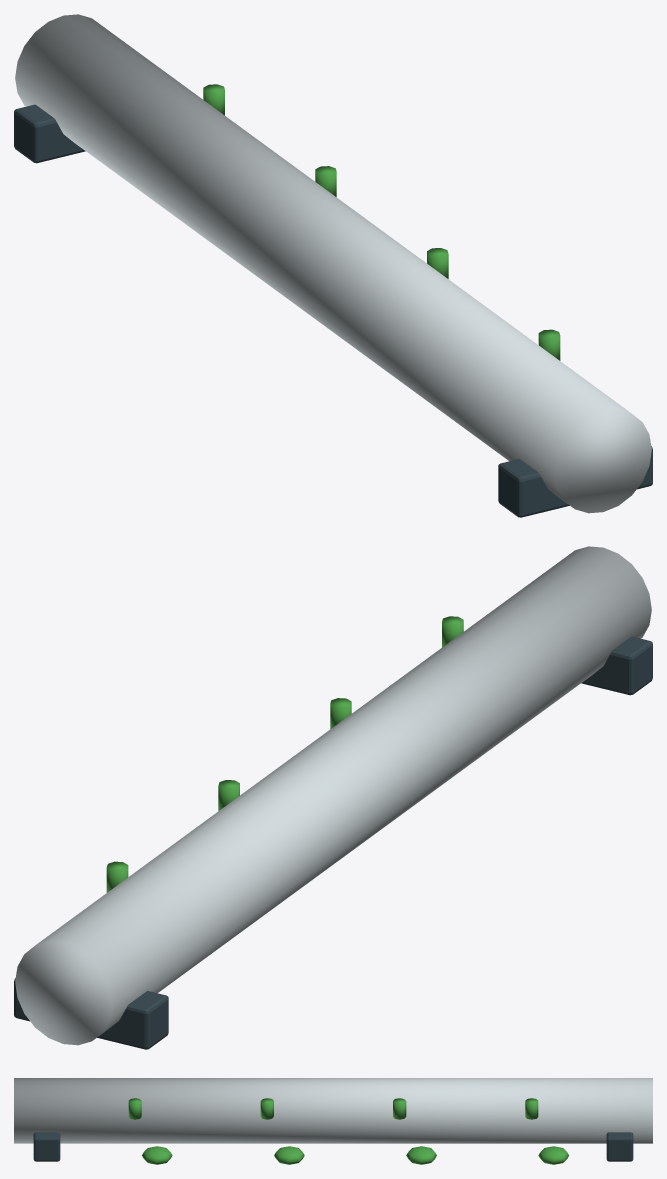
The model's file is Conduit5.fbx.
3 renders of one model, top to bottom at view 1: azimuth 30°, elevation 25°; view 2: azimuth 150°, elevation 25°; view 3: azimuth 270°, elevation 25°, orthographic. The views are drawn at different scales.
Parts seen in each view (by area): view 1: PipeWhite_Pipe0, Planter_Saddle0, Planter_Saddle1; view 2: PipeWhite_Pipe0, Planter_Saddle1, Planter_Saddle0; view 3: PipeWhite_Pipe0, Planter_Saddle0, Planter_Saddle1, Leaf_Sprout2, Leaf_Sprout1, Leaf_Sprout0, Leaf_Sprout3, Leaf_Dripper0, Leaf_Dripper1, Leaf_Dripper2, Leaf_Dripper3.
Part boxes in pixels (left/top/right/bottom): PipeWhite_Pipe0: left=15, top=14, right=651, bottom=513; Planter_Saddle0: left=498, top=446, right=652, bottom=517; Planter_Saddle1: left=14, top=104, right=85, bottom=163; PipeWhite_Pipe0: left=15, top=546, right=651, bottom=1045; Planter_Saddle1: left=14, top=978, right=168, bottom=1049; Planter_Saddle0: left=581, top=636, right=652, bottom=695; PipeWhite_Pipe0: left=14, top=1078, right=652, bottom=1143; Planter_Saddle0: left=33, top=1132, right=60, bottom=1161; Planter_Saddle1: left=606, top=1132, right=633, bottom=1161; Leaf_Sprout2: left=406, top=1146, right=436, bottom=1164; Leaf_Sprout1: left=274, top=1146, right=304, bottom=1164; Leaf_Sprout0: left=142, top=1146, right=172, bottom=1164; Leaf_Sprout3: left=538, top=1146, right=568, bottom=1164; Leaf_Dripper0: left=128, top=1098, right=141, bottom=1119; Leaf_Dripper1: left=260, top=1098, right=273, bottom=1119; Leaf_Dripper2: left=393, top=1098, right=406, bottom=1119; Leaf_Dripper3: left=525, top=1098, right=538, bottom=1119.
Bounding box in the file's own units: 0.48 × 2.9 × 0.315.
